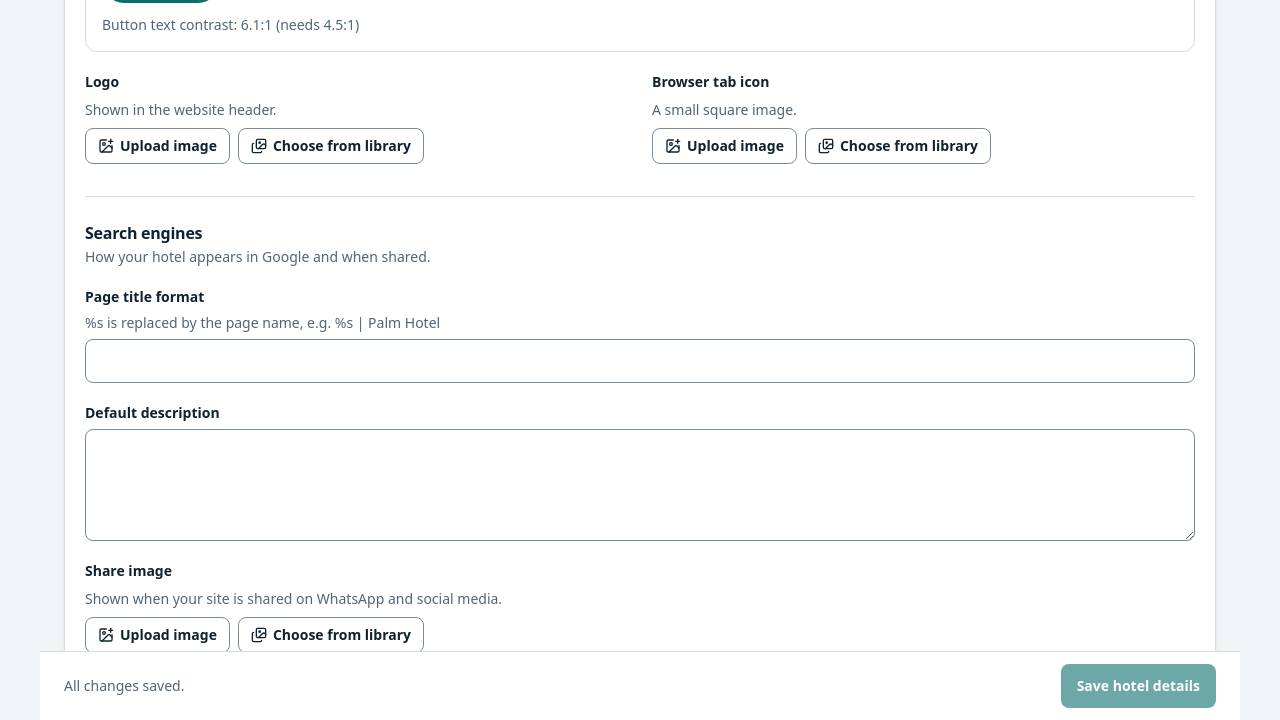
hotel details form › Page title format: shows a clear message and sends nothing
(page scrolled)
Type "My hotel" into the field labelled "Page title format" at (640, 361), box [85,339,1195,383]
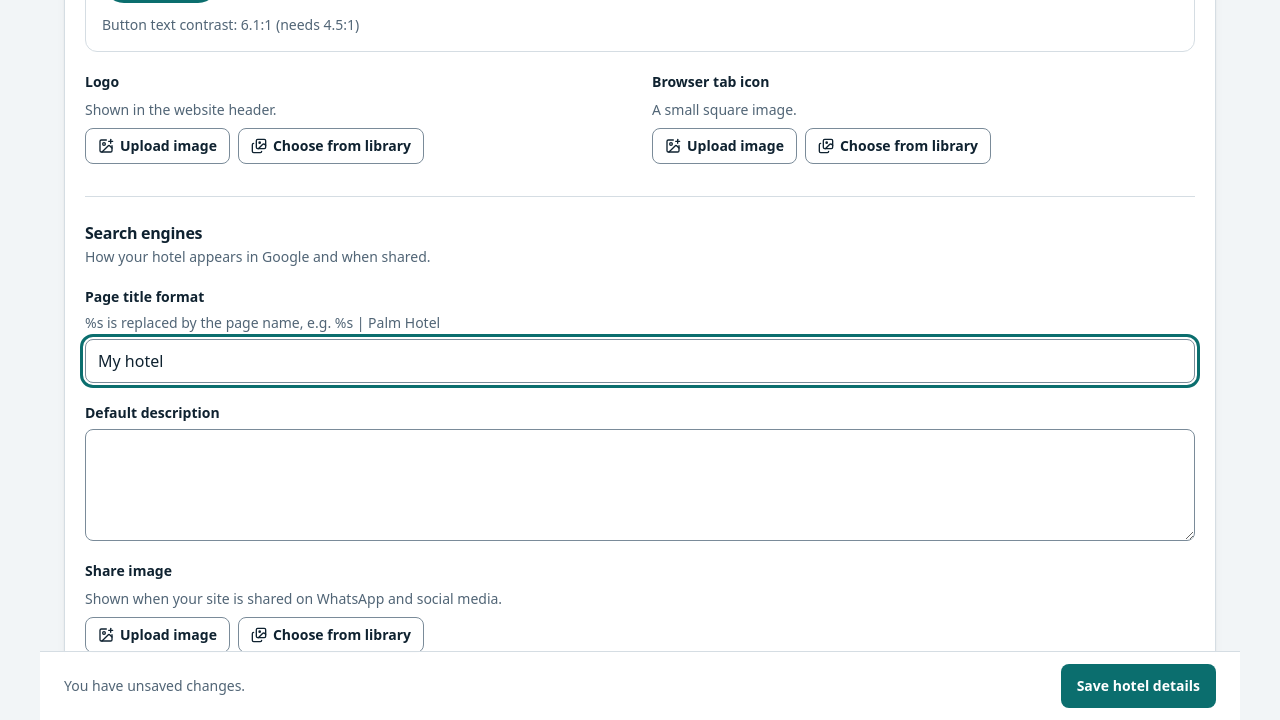
Click the button "Save hotel details" at (1138, 686), box [1061,664,1216,708]
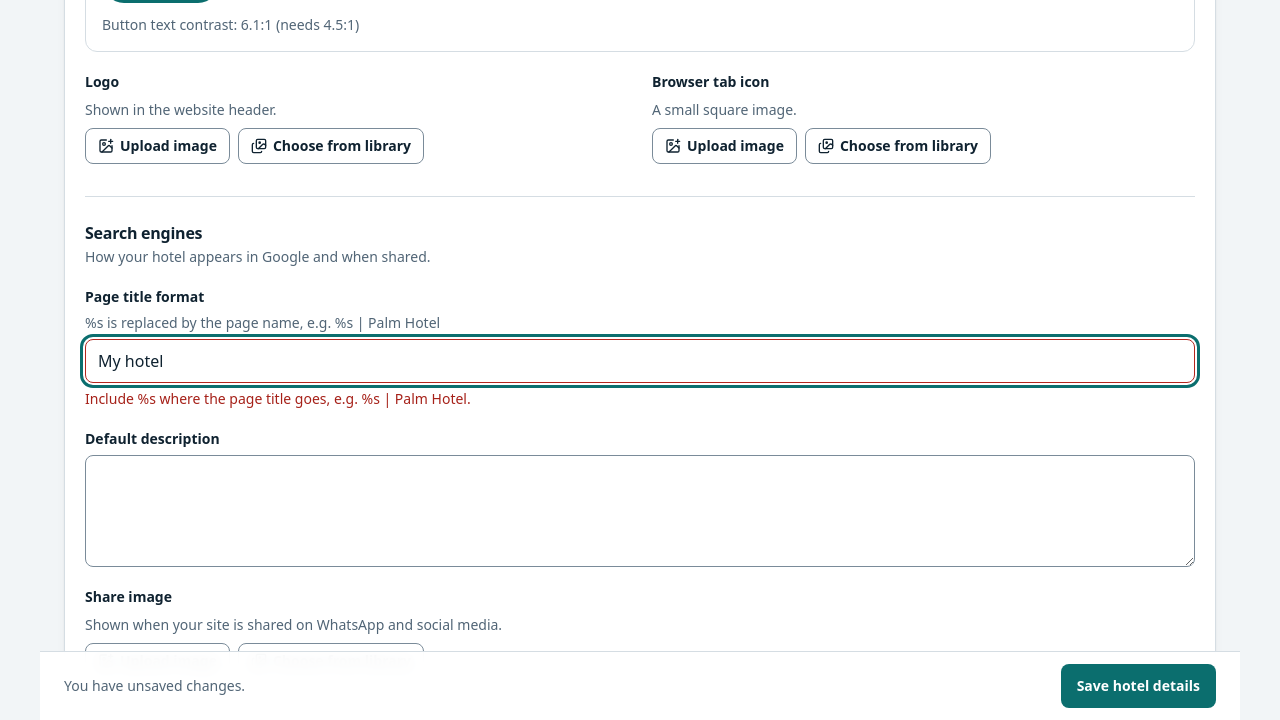
Result: the text "Include %s where the page title goes, e.g. %s | Palm Hotel." is shown at [85,389,471,408]
